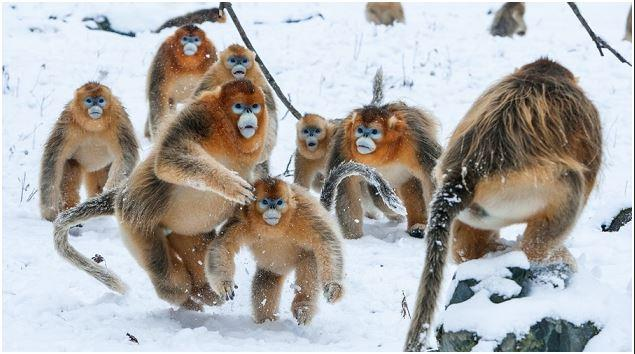GoldenSnub-Nosed: (438, 59, 600, 260), (124, 76, 265, 291), (236, 180, 343, 314), (37, 73, 137, 210), (326, 107, 435, 229), (150, 22, 211, 129), (295, 117, 346, 192), (210, 41, 271, 99)
